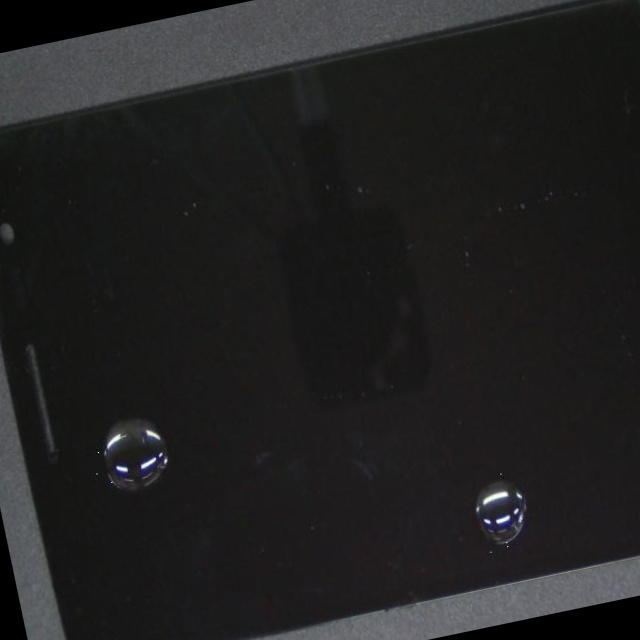oil: (226, 159, 640, 640), (21, 206, 206, 640)
